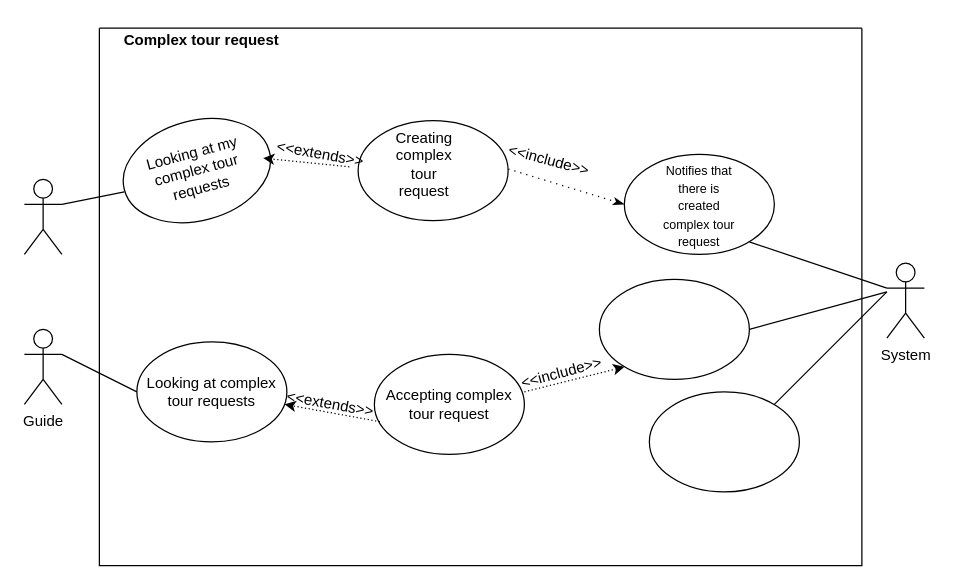
The diagram is 953 pixels wide and 588 high, and some of its shapes have lost their labels. Each missing label, with the centre of its shape:
"Notifies that complex tour request is accepted" goes at point 673,328.
"Tourist" goes at point 42,216.
"Validation checking" goes at point 723,441.
